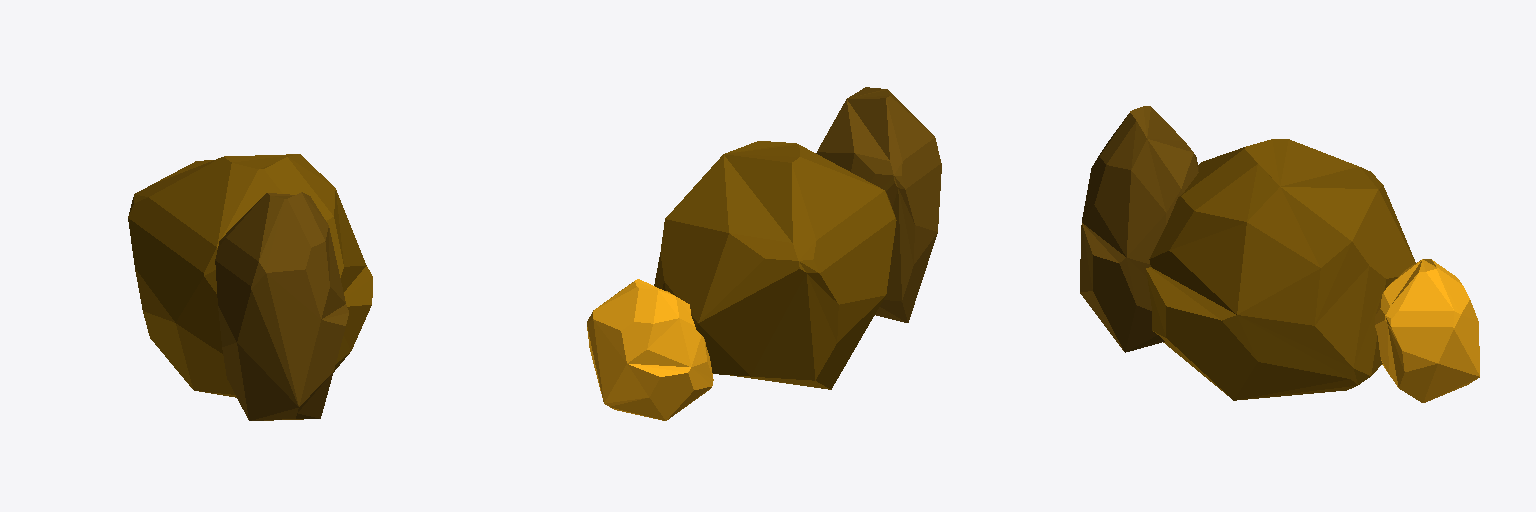
File: Small_Rock.obj
The picture shows the model from 3 angles: view 1: azimuth 30°, elevation 25°; view 2: azimuth 150°, elevation 25°; view 3: azimuth 270°, elevation 25°; orthographic projection.
Parts seen in each view (by area): view 1: Icosphere.001, Icosphere; view 2: Icosphere.001, Icosphere, Icosphere.002; view 3: Icosphere.001, Icosphere, Icosphere.002.
Part boxes in pixels (x1,y1,x2,y2): Icosphere.001: (128,154,372,397); Icosphere: (215,192,348,420); Icosphere.001: (654,141,896,389); Icosphere: (816,87,941,322); Icosphere.002: (587,279,713,420); Icosphere.001: (1146,139,1415,400); Icosphere: (1080,106,1198,352); Icosphere.002: (1375,259,1479,402).
Bounding box in the file's own units: 0.3139 × 0.3729 × 0.5484.